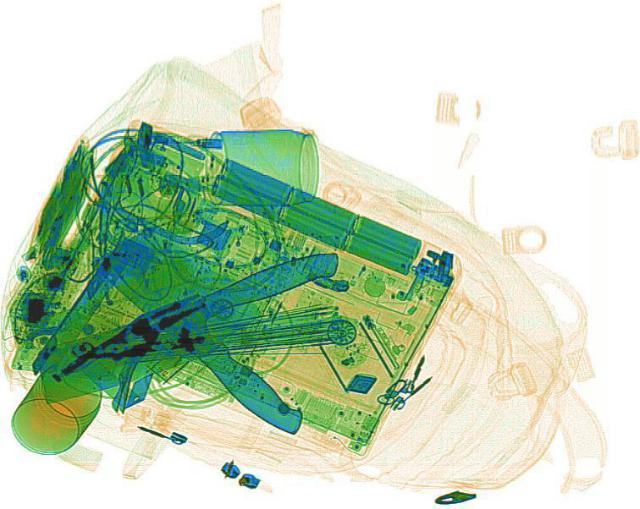Knife: (84, 218, 348, 445), (10, 247, 368, 404)
